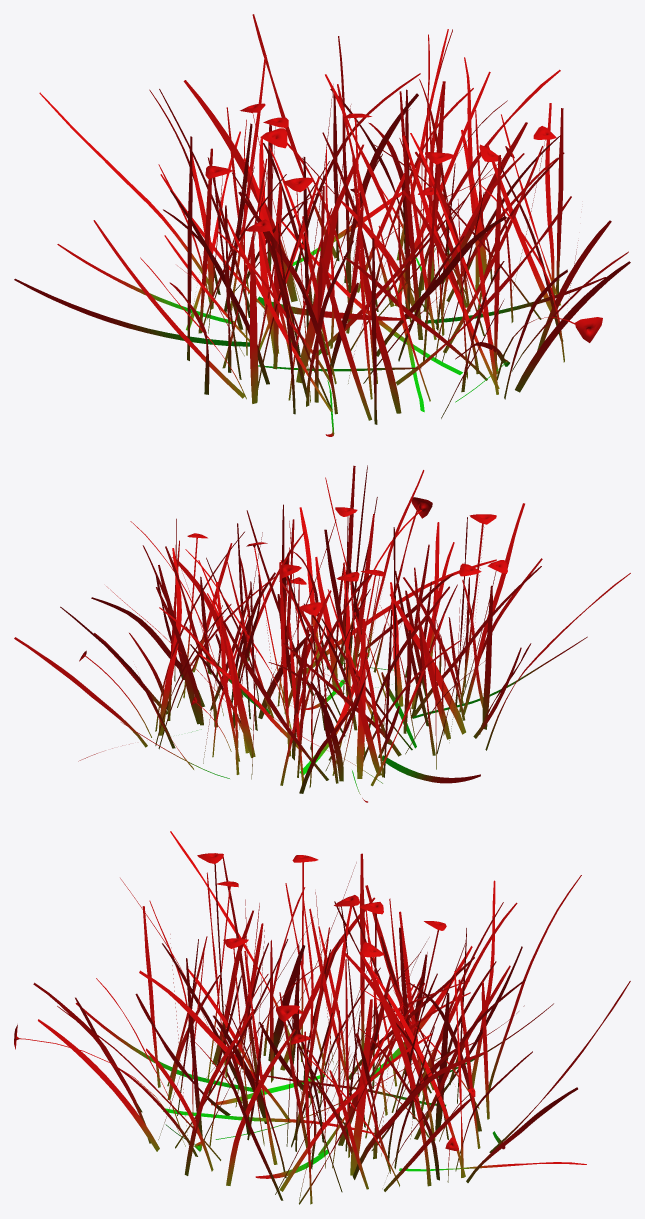
File: Var20_LOD0.fbx
The picture shows the model from 3 angles, top to bottom: view 1: azimuth 30°, elevation 25°; view 2: azimuth 150°, elevation 25°; view 3: azimuth 270°, elevation 25°; orthographic projection. The views are drawn at different scales.
Parts seen in each view (by area): view 1: _z12d_Var20_LOD0; view 2: _z12d_Var20_LOD0; view 3: _z12d_Var20_LOD0.
Part boxes in pixels (x1,y1,x2,y2): _z12d_Var20_LOD0: (14,14,630,436); _z12d_Var20_LOD0: (14,465,630,802); _z12d_Var20_LOD0: (14,831,630,1204).
Bounding box in the file's own units: 28.3 × 12.68 × 32.85.
